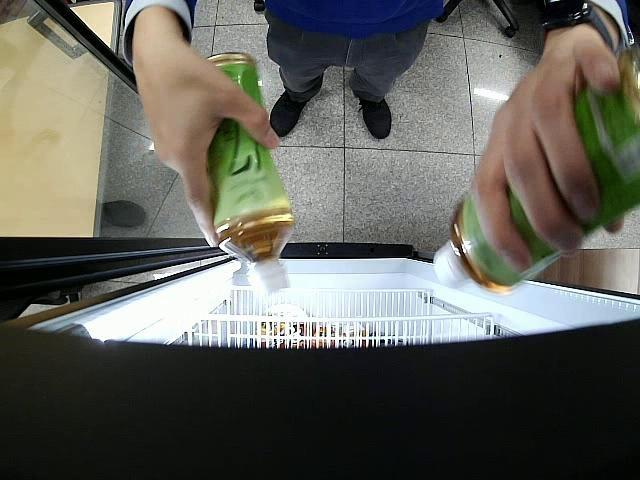19_17cha: (432, 59, 640, 294), (206, 50, 292, 292)
